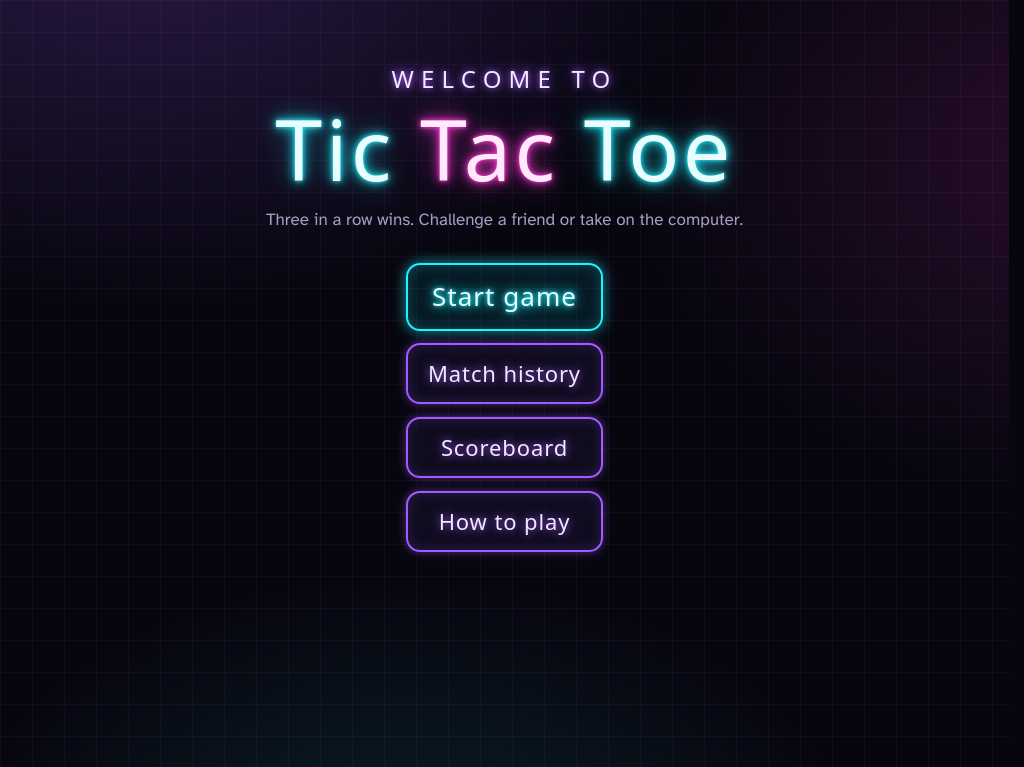
Test: App › shows the rules
Expected: the heading "Welcome to Tic Tac Toe" is shown, [275,61,734,192]
Expected: the button "Start game" is enabled, [406,263,603,331]
Click the button "How to play". click: x=504, y=521
box: [406,491,603,552]
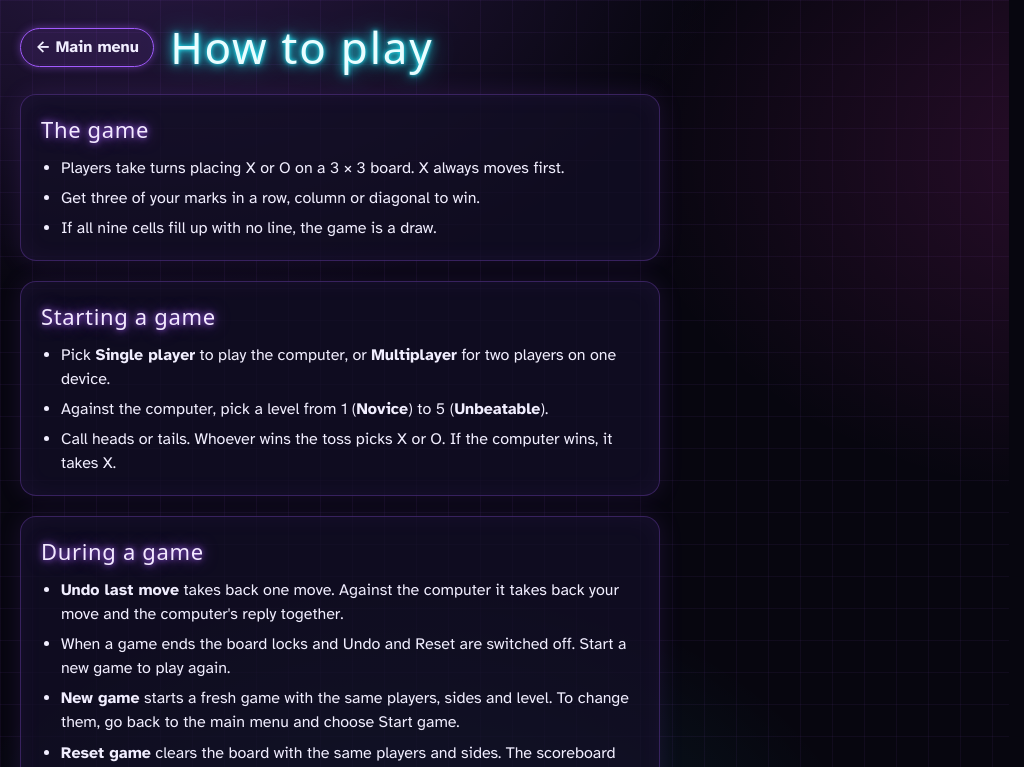
Expected: the list item "Whoever wins the toss picks X or O" is shown, [61,429,612,473]
